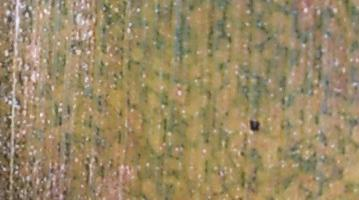tarspot: (250, 120, 261, 132)
